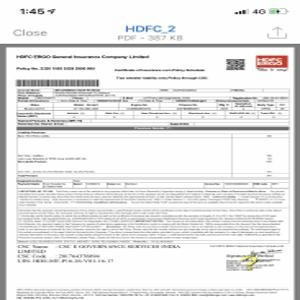image: (256, 52, 289, 72)
table: (15, 129, 292, 178), (15, 87, 289, 127), (15, 177, 291, 189)
text: (16, 188, 287, 241), (15, 243, 183, 266)
